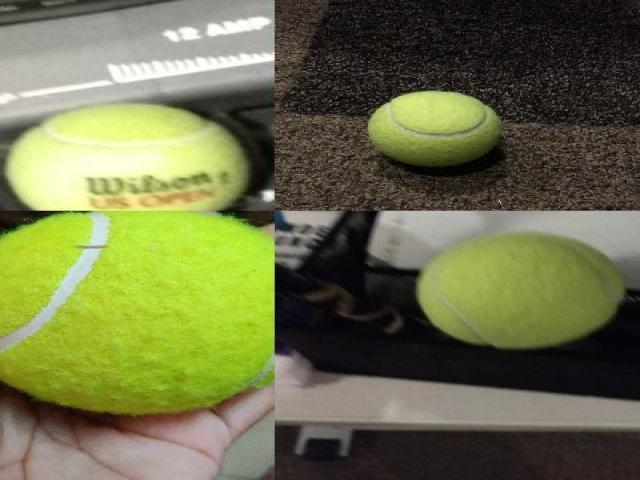tennis-ball: (0, 211, 273, 415), (3, 101, 251, 210), (415, 230, 626, 349), (367, 89, 503, 167)
